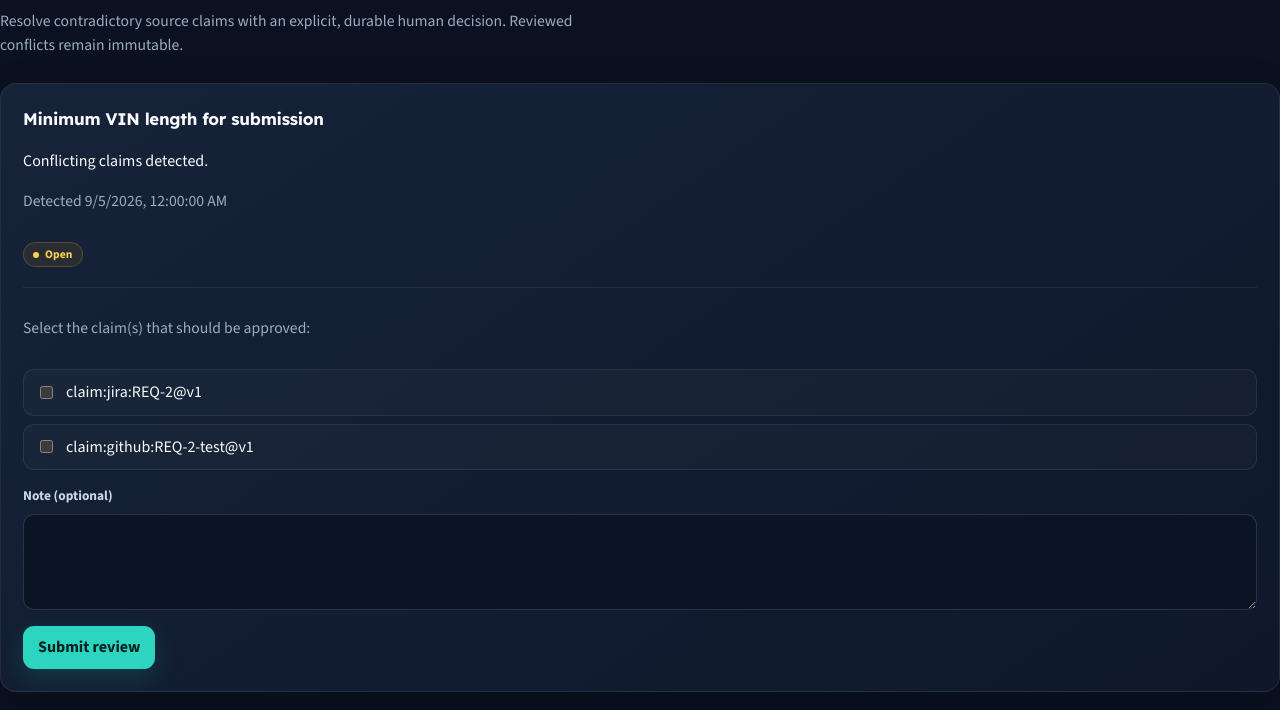
Test: ConflictsPage › requires at least one approved claim before submitting
(page scrolled)
Click the button "Submit review": [89, 648] box top-left (23, 626), bottom-right (155, 669)
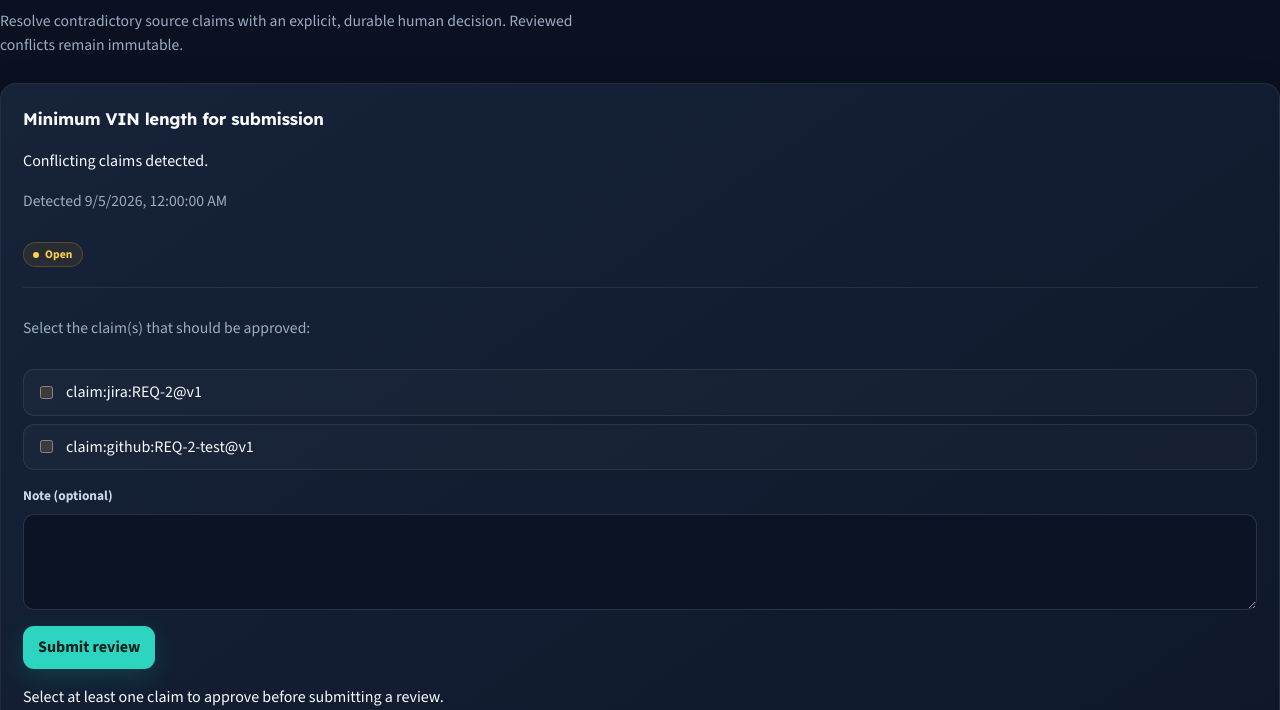
Check: the text "Select at least one claim to approve before submitting a review." is shown, box top-left (23, 686), bottom-right (444, 707)
